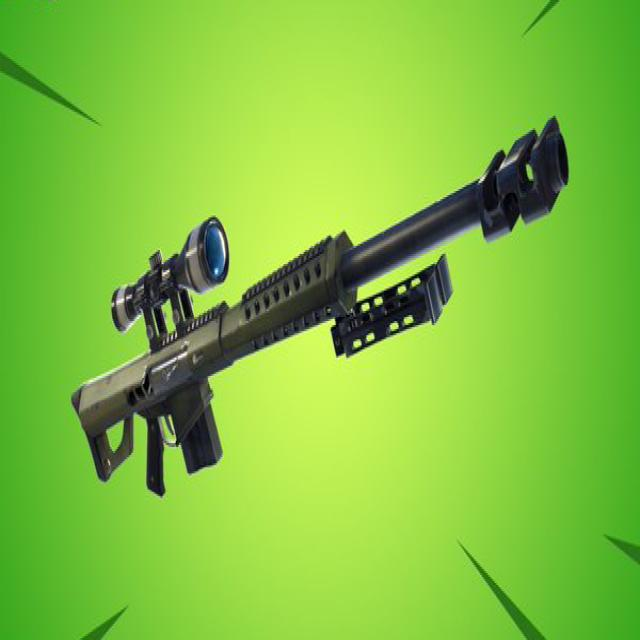Rifle: (70, 120, 570, 496)
